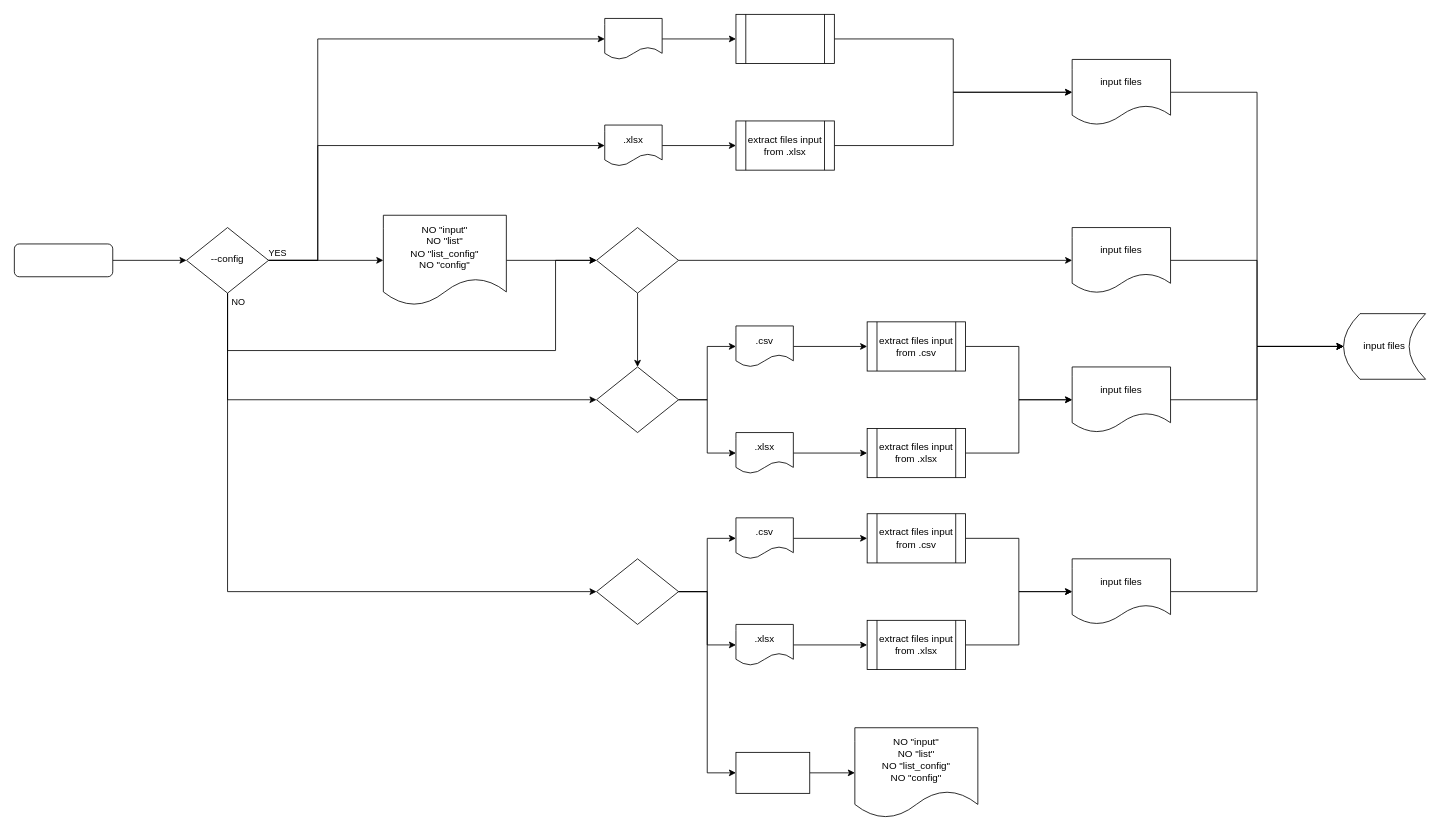
Some shapes in this 1440 by 832 pixel diagram are drawn without their labels. The box of each missing label's shape, as (x1, y1, x2, y2) in pixels:
--input: (596, 227, 679, 293)
--list: (596, 366, 679, 433)
--list-config: (596, 558, 679, 624)
.json: (604, 18, 662, 59)
extract files input from .json: (735, 14, 834, 64)
RUN: (14, 243, 113, 277)
sheet config: (735, 752, 810, 793)
